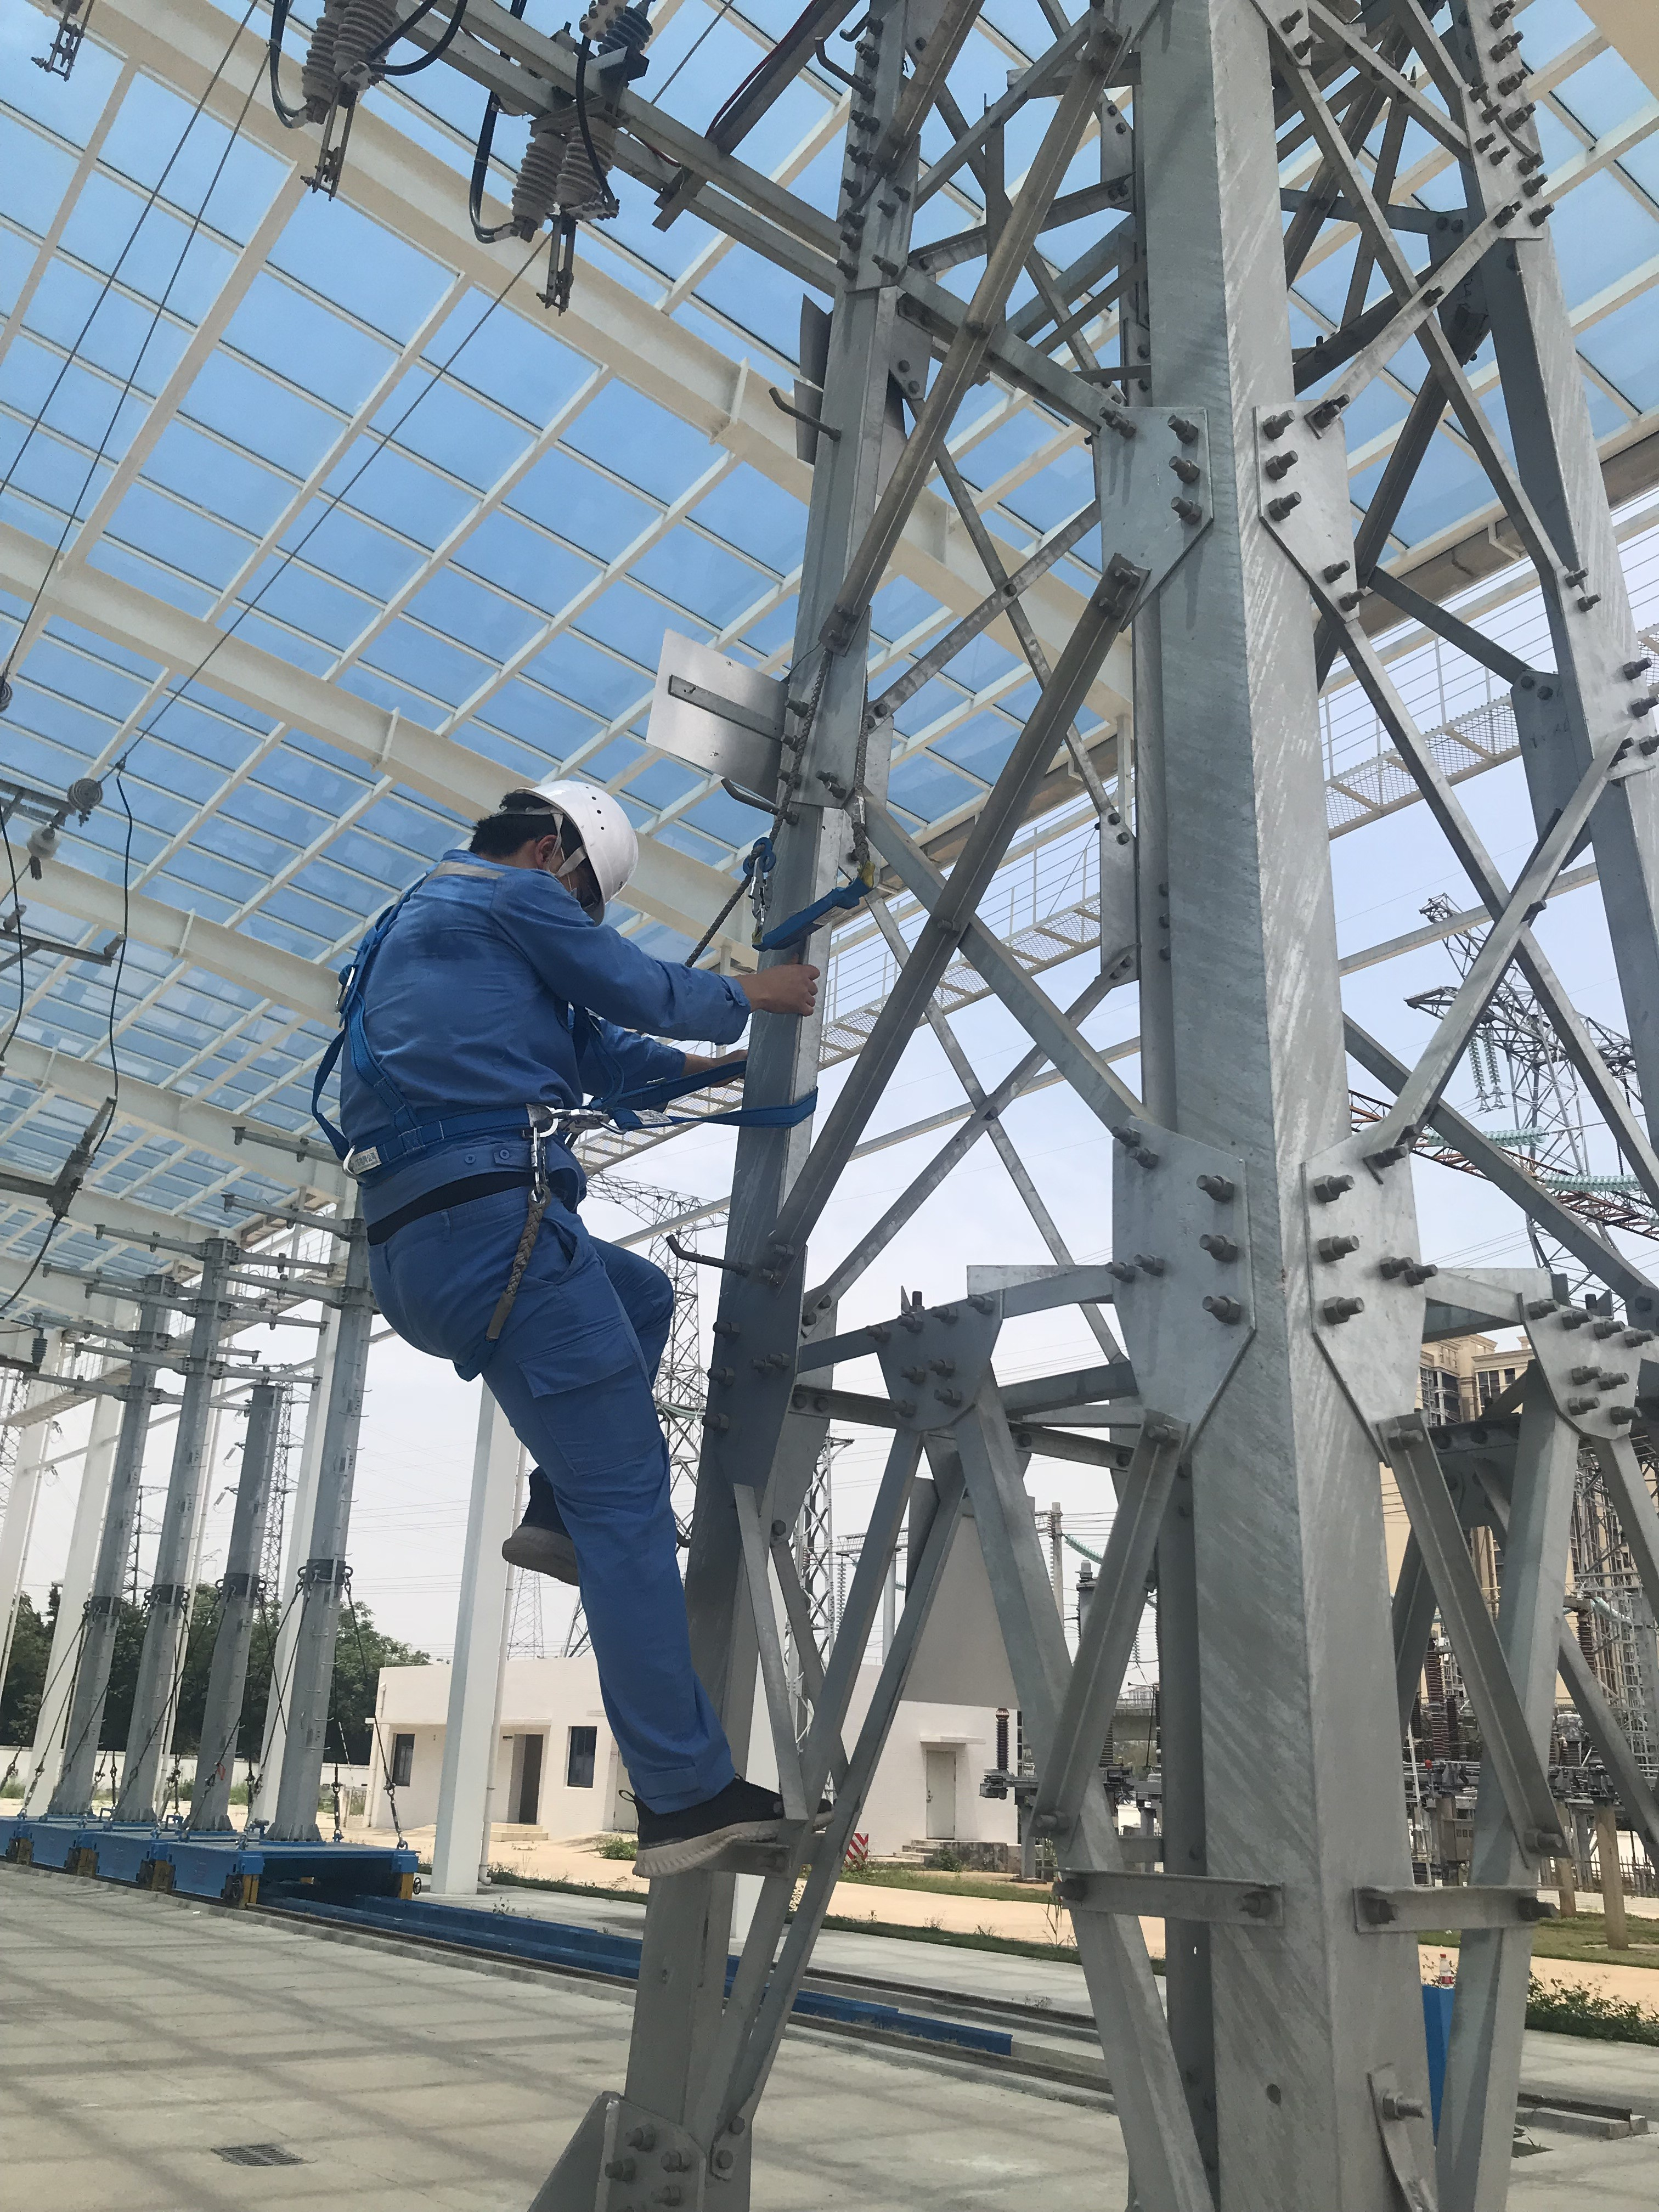downsuit: (403, 1224, 725, 1792)
upsuit: (345, 860, 636, 1211)
